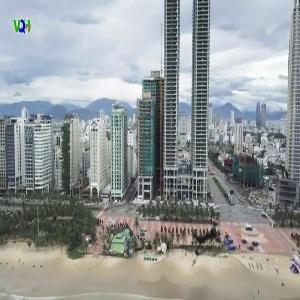drone: (165, 199, 251, 285)
